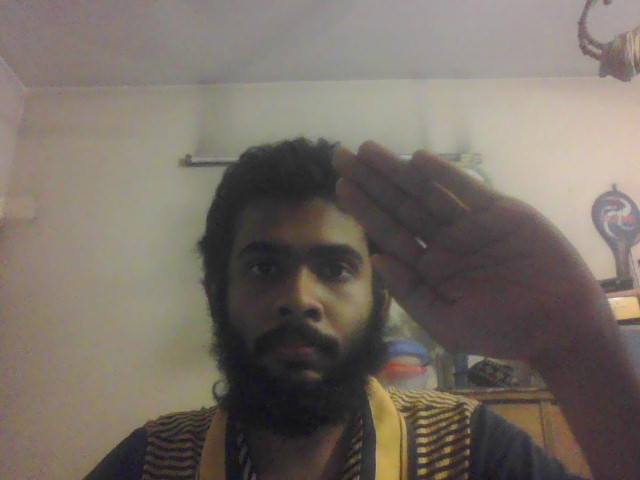Hello: (325, 140, 624, 353)
